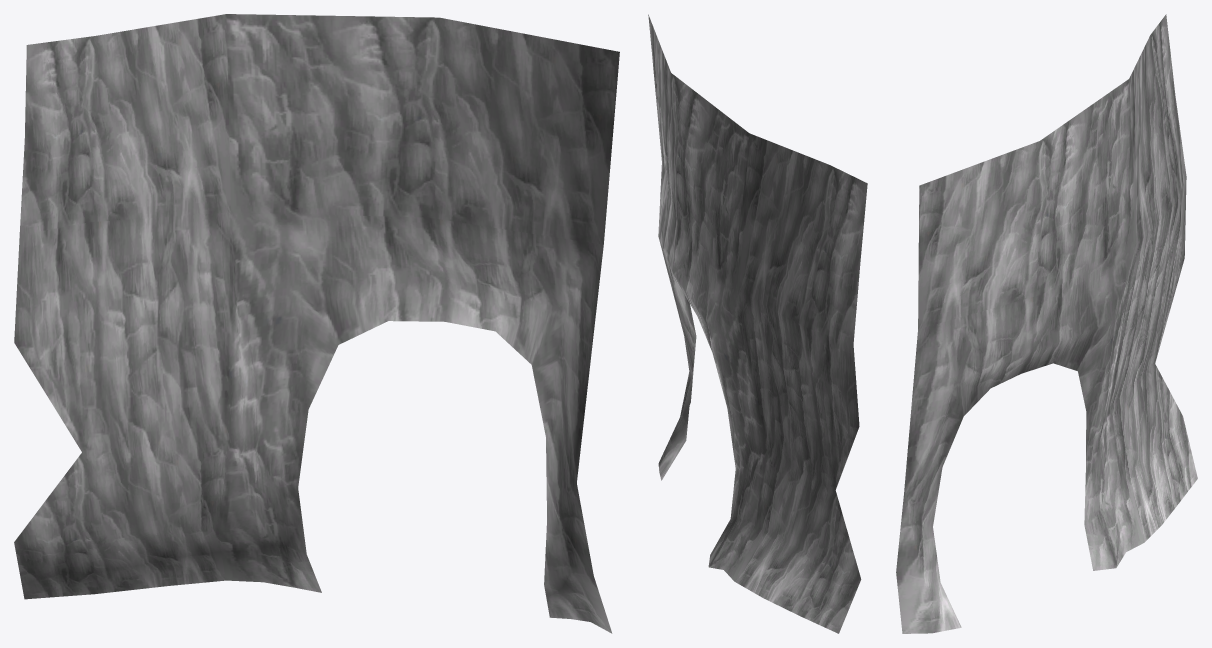
The model's file is SWORDLIGHT20_PS-AREA03_83.fbx.
3 renders of one model, left to right at view 1: azimuth 30°, elevation 25°; view 2: azimuth 150°, elevation 25°; view 3: azimuth 270°, elevation 25°, orthographic. The views are drawn at different scales.
Visible parts, largest first — view 1: SWORDLIGHT20_PS-AREA03_83; view 2: SWORDLIGHT20_PS-AREA03_83; view 3: SWORDLIGHT20_PS-AREA03_83.
Boxes of the visible parts, left/top/right/bottom form: SWORDLIGHT20_PS-AREA03_83: left=14, top=14, right=619, bottom=633; SWORDLIGHT20_PS-AREA03_83: left=648, top=14, right=867, bottom=633; SWORDLIGHT20_PS-AREA03_83: left=896, top=14, right=1197, bottom=633.
Size of the model in its own units: 111955 by 141451 by 83091.
1 material, 1 textured.
